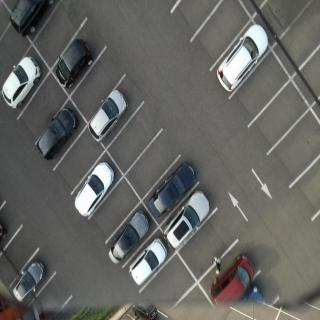car: (215, 23, 269, 94), (161, 188, 211, 251), (149, 160, 198, 219), (208, 252, 257, 307), (108, 209, 153, 266), (74, 160, 115, 218), (34, 108, 78, 162), (87, 88, 128, 145), (125, 239, 170, 287), (54, 38, 93, 91), (4, 57, 41, 111), (11, 2, 53, 38), (16, 259, 46, 296), (1, 219, 6, 254)
parking-space: (222, 45, 294, 131), (248, 78, 312, 160), (118, 125, 183, 204), (66, 42, 127, 126), (183, 1, 254, 73), (183, 201, 244, 280), (101, 100, 163, 177), (264, 111, 320, 196), (266, 1, 320, 88), (29, 1, 89, 75), (138, 250, 200, 317), (88, 173, 145, 243), (17, 70, 72, 140), (51, 131, 109, 196), (250, 1, 313, 51), (25, 270, 77, 320), (1, 222, 40, 287), (288, 43, 320, 115), (264, 304, 319, 320)
